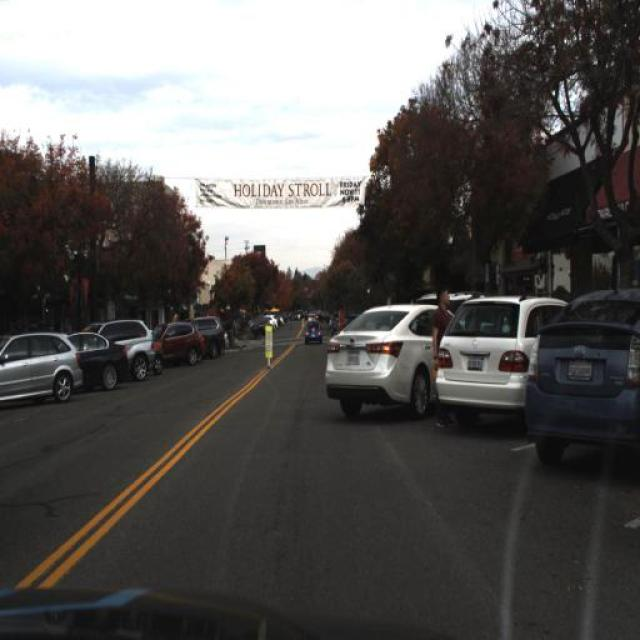car: (519, 287, 639, 449), (320, 300, 479, 408), (432, 294, 570, 410), (1, 326, 87, 406), (56, 327, 132, 388), (86, 319, 156, 379), (158, 321, 202, 367), (193, 314, 224, 358), (304, 320, 324, 346)
trafficLight: (426, 278, 456, 428)
